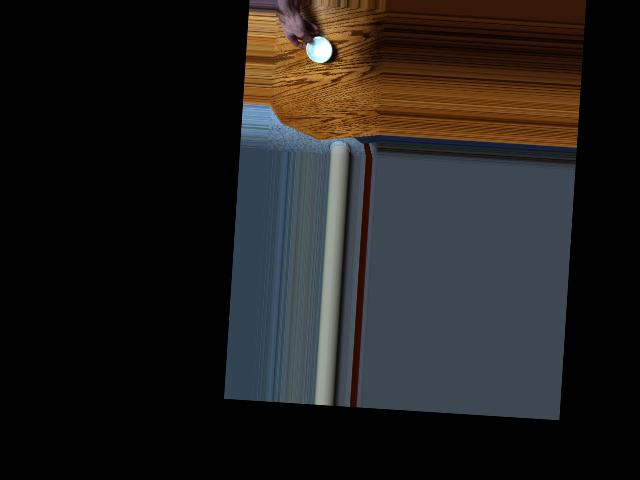cotage: (303, 36, 335, 64)
